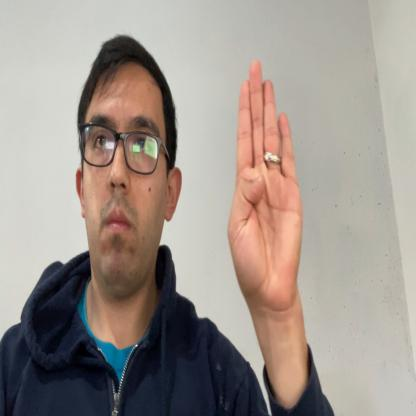B: (228, 58, 302, 312)
